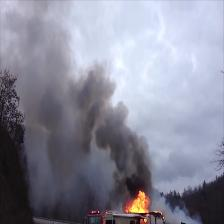fire: (120, 190, 157, 223)
smoke: (5, 3, 145, 185)
